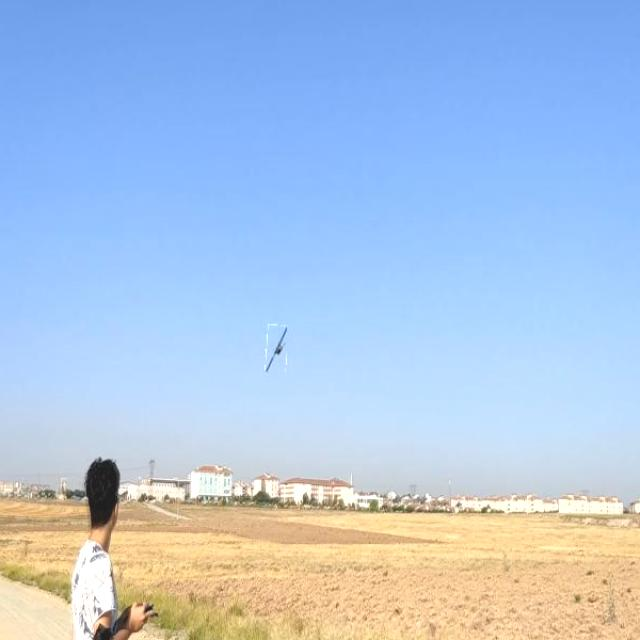plane: (262, 321, 288, 372)
